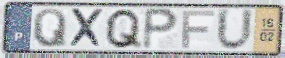F: (181, 9, 217, 50)
P: (140, 6, 181, 51)
Q: (103, 8, 144, 51), (31, 7, 68, 49)
U: (215, 7, 255, 53)
X: (68, 7, 106, 50)
